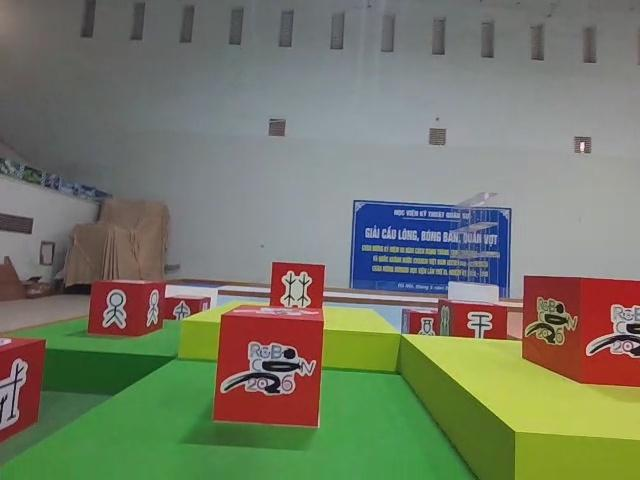R1: (213, 301, 323, 430), (522, 269, 640, 387)
R2 Real: (0, 336, 45, 446), (87, 278, 167, 337), (269, 258, 326, 318)
